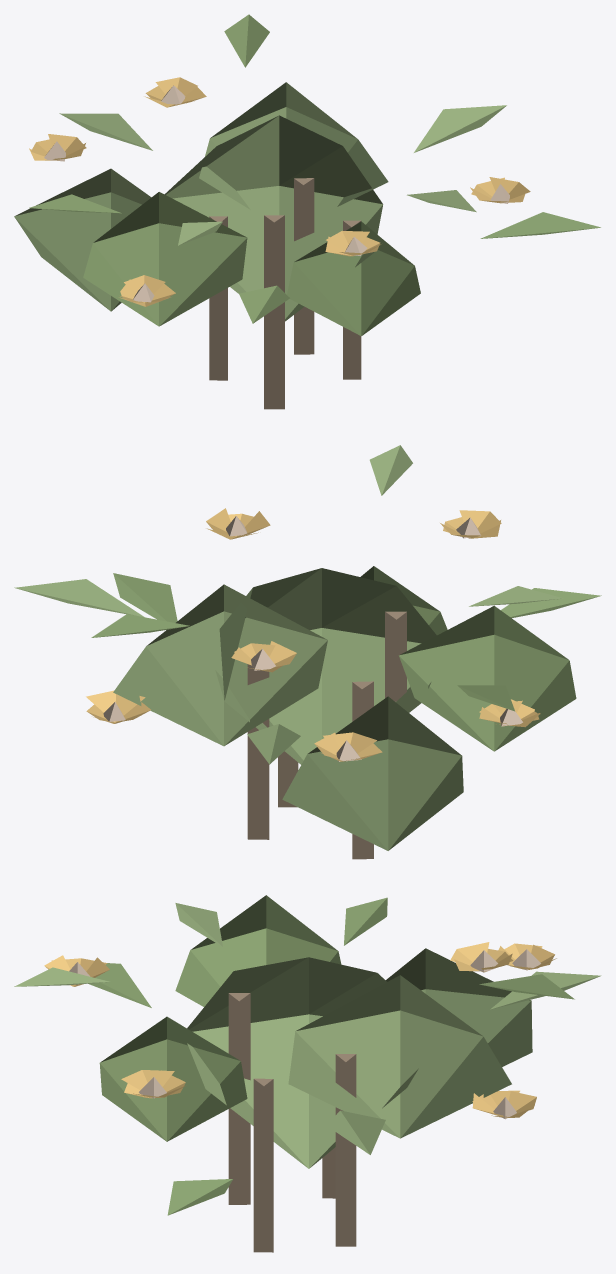
The model's file is guan.lianqiao__summer.glb.
The picture shows the model from 3 angles, top to bottom: view 1: azimuth 30°, elevation 25°; view 2: azimuth 150°, elevation 25°; view 3: azimuth 270°, elevation 25°; orthographic projection. The views are drawn at different scales.
Parts seen in each view (by area): view 1: guan.lianqiao__summer; view 2: guan.lianqiao__summer; view 3: guan.lianqiao__summer.
Boxes of the visible parts, x1,y1,x2,y2 form: guan.lianqiao__summer: (14, 14, 600, 409); guan.lianqiao__summer: (14, 445, 601, 859); guan.lianqiao__summer: (14, 895, 601, 1252).
Bounding box in the file's own units: 3.08 × 1.6 × 3.03.
